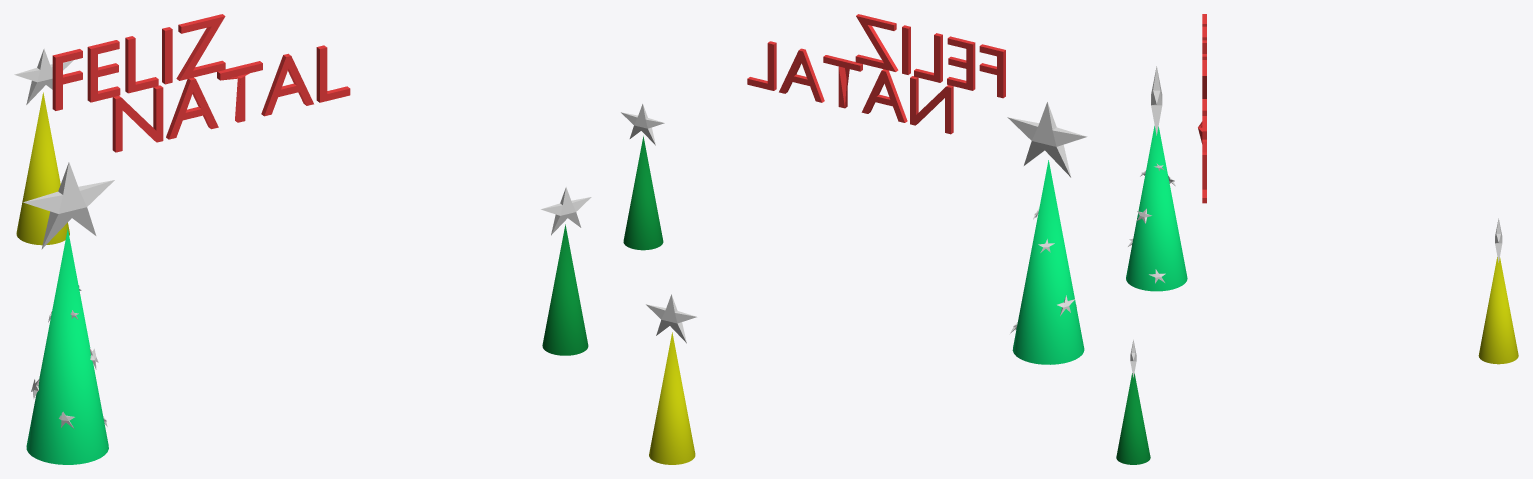
The model's file is uf-d021-natal.glb.
The picture shows the model from 3 angles, left to right: view 1: azimuth 30°, elevation 25°; view 2: azimuth 150°, elevation 25°; view 3: azimuth 270°, elevation 25°; orthographic projection. The views are drawn at different scales.
Parts seen in each view (by area): view 1: menataltree, Text.053, Text.052, menataltree.002, menataltree.001, menatalstar001, menatalstar001.002, menatalstar001.001; view 2: menataltree, Text.053, Text.052, menataltree.002, menataltree.001, menatalstar001, menatalstar001.002, menatalstar001.001; view 3: menataltree, menataltree.002, menataltree.001, Text.052, menatalstar001, Text.053.
Part boxes in pixels (x1=…): menataltree: x1=26, y1=228, x2=108, y2=464; Text.053: x1=112, y1=45, x2=350, y2=152; Text.052: x1=52, y1=14, x2=225, y2=110; menataltree.002: x1=16, y1=92, x2=69, y2=245; menataltree.001: x1=542, y1=224, x2=588, y2=355; menatalstar001: x1=23, y1=162, x2=114, y2=249; menatalstar001.002: x1=14, y1=48, x2=73, y2=104; menatalstar001.001: x1=541, y1=187, x2=591, y2=235; menataltree: x1=1012, y1=160, x2=1084, y2=364; Text.053: x1=747, y1=41, x2=953, y2=134; Text.052: x1=855, y1=14, x2=1005, y2=98; menataltree.002: x1=649, y1=332, x2=695, y2=464; menataltree.001: x1=623, y1=136, x2=663, y2=250; menatalstar001: x1=1007, y1=102, x2=1087, y2=177; menatalstar001.002: x1=646, y1=294, x2=696, y2=343; menatalstar001.001: x1=621, y1=104, x2=664, y2=145; menataltree: x1=1126, y1=126, x2=1187, y2=291; menataltree.002: x1=1478, y1=257, x2=1518, y2=364; menataltree.001: x1=1116, y1=373, x2=1150, y2=464; Text.052: x1=1202, y1=14, x2=1206, y2=115; menatalstar001: x1=1151, y1=66, x2=1162, y2=135; Text.053: x1=1198, y1=116, x2=1206, y2=203.
Bounding box in the file's own units: 6.83 × 4.4 × 5.75.
